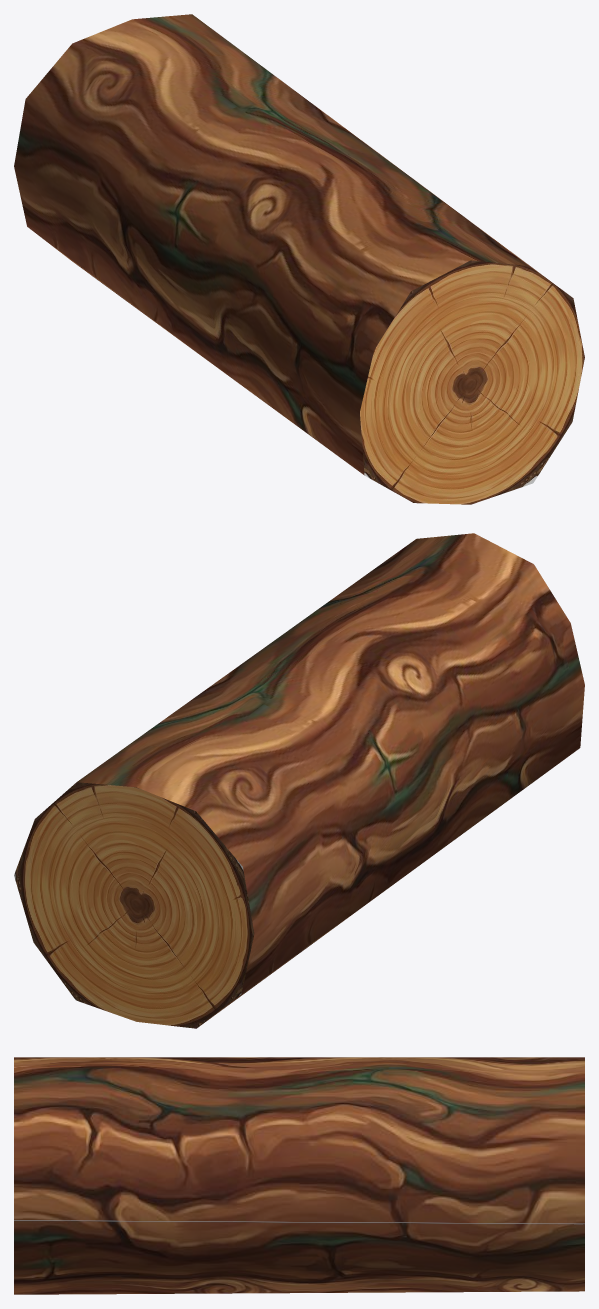
Rendered from log.glb.
3 views of the same model, one above another, from view 1: azimuth 30°, elevation 25°; view 2: azimuth 150°, elevation 25°; view 3: azimuth 270°, elevation 25° (orthographic). The views are drawn at different scales.
Visible parts, largest first — view 1: Log; view 2: Log; view 3: Log.
Part boxes in pixels (x1,y1,x2,y2): Log: (14,14,584,504); Log: (14,533,584,1028); Log: (14,1057,584,1294).
Bounding box in the file's own units: 0.263 × 0.2549 × 0.64.
Materials: 1 (1 with a texture image).
